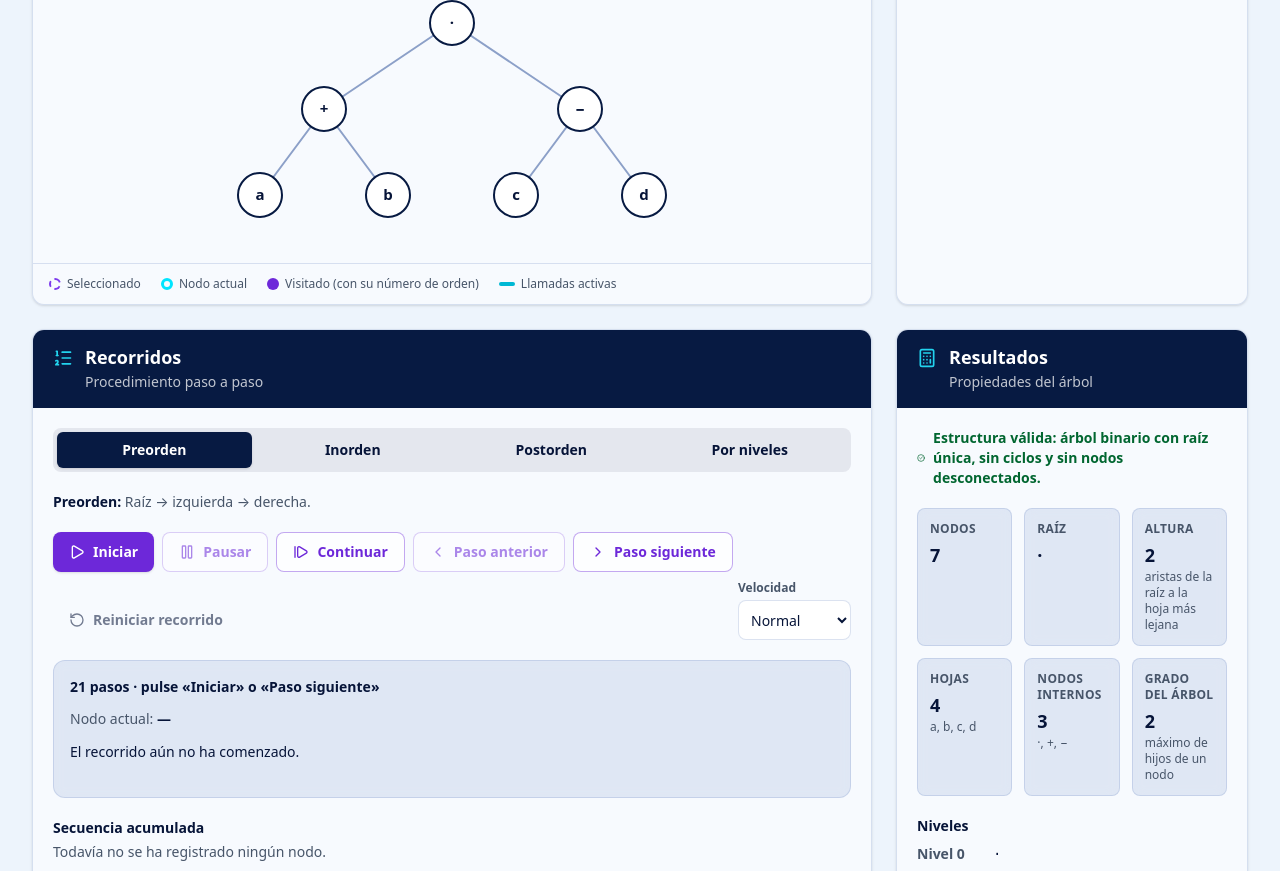
Scenario: módulo de árboles binarios › reproduce automáticamente, se puede pausar y continuar
Later steps or results of the test are not shown.
(page scrolled)
Click the tab "Por niveles" at point(750, 450), box 652,432 -> 847,468
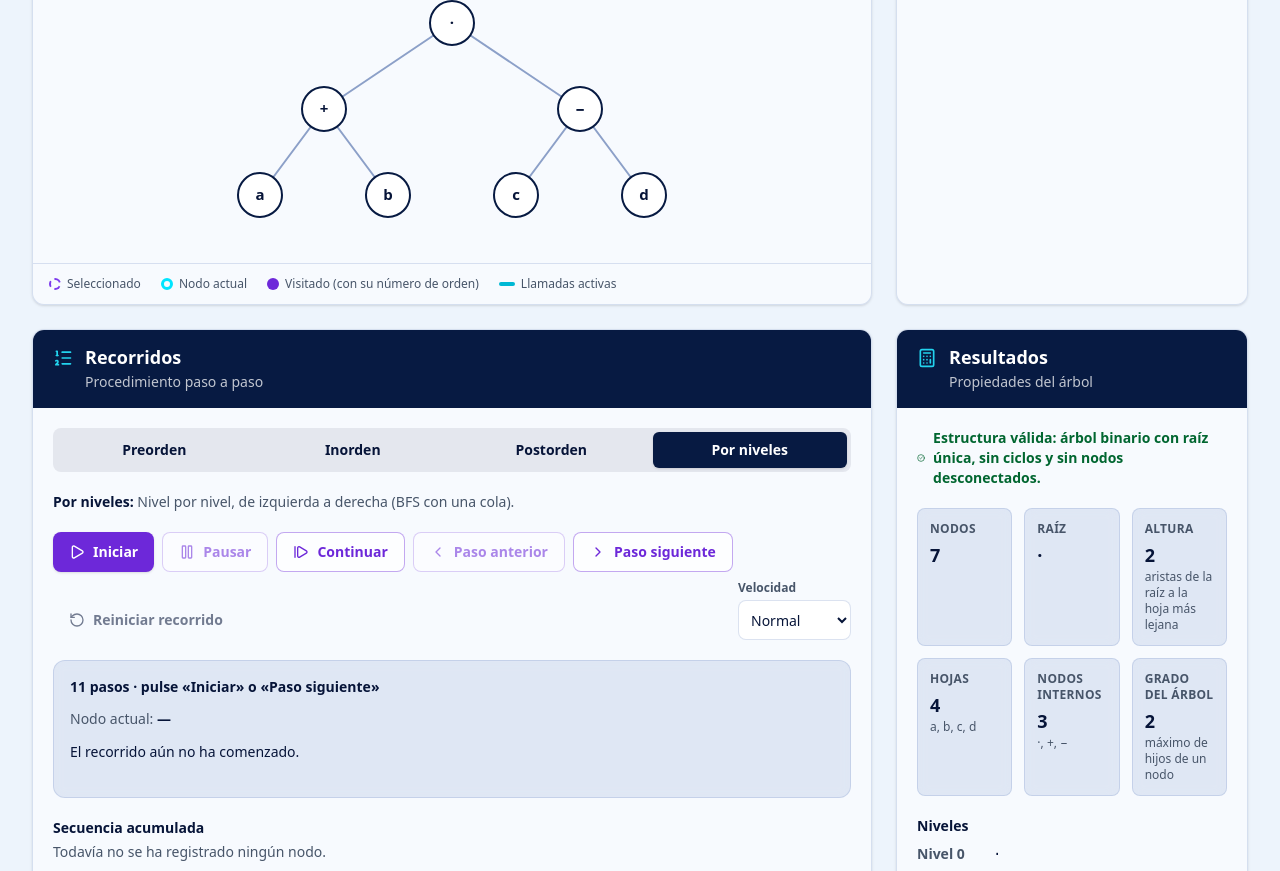
Click the button "Iniciar" at point(104, 552), box 53,532 -> 154,572
Wait 2200 ms
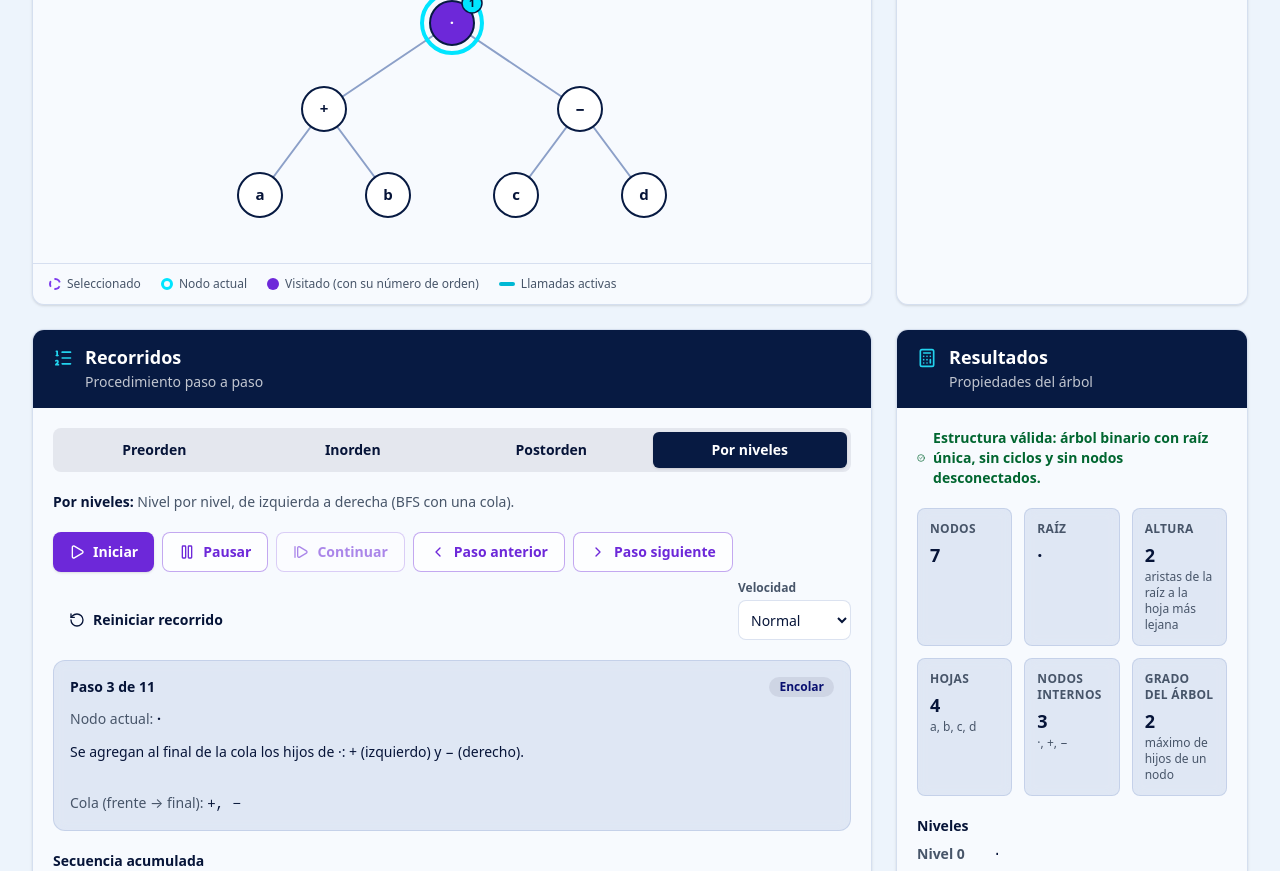
Now the text "Paso 3 de 11" is shown, box 70,677 -> 155,697
Click the button "Pausar" at point(215, 552), box 162,532 -> 268,572
Wait 5500 ms
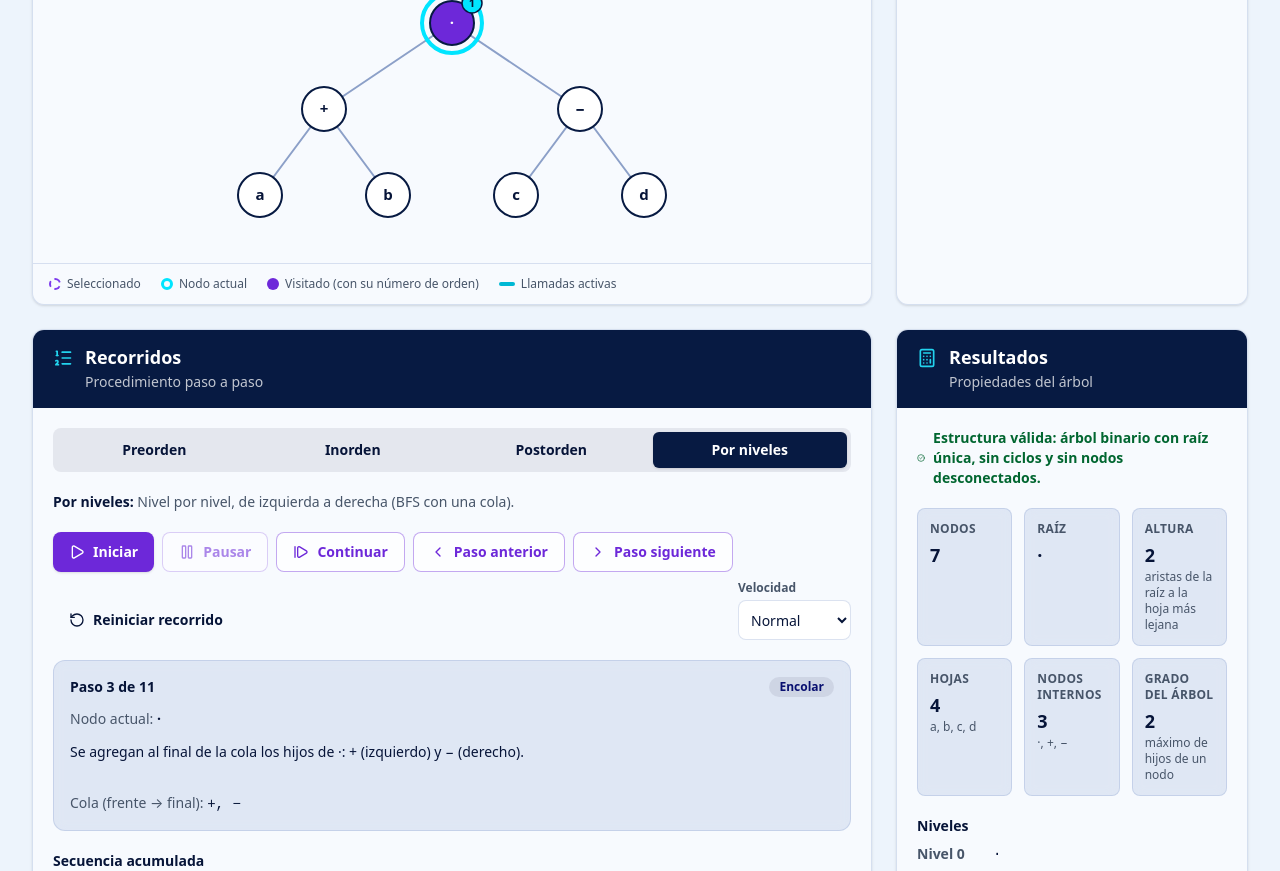
Now the text "Paso 3 de 11" is shown, box 70,677 -> 155,697
Click the button "Continuar" at point(341, 552), box 276,532 -> 405,572
Wait 13200 ms
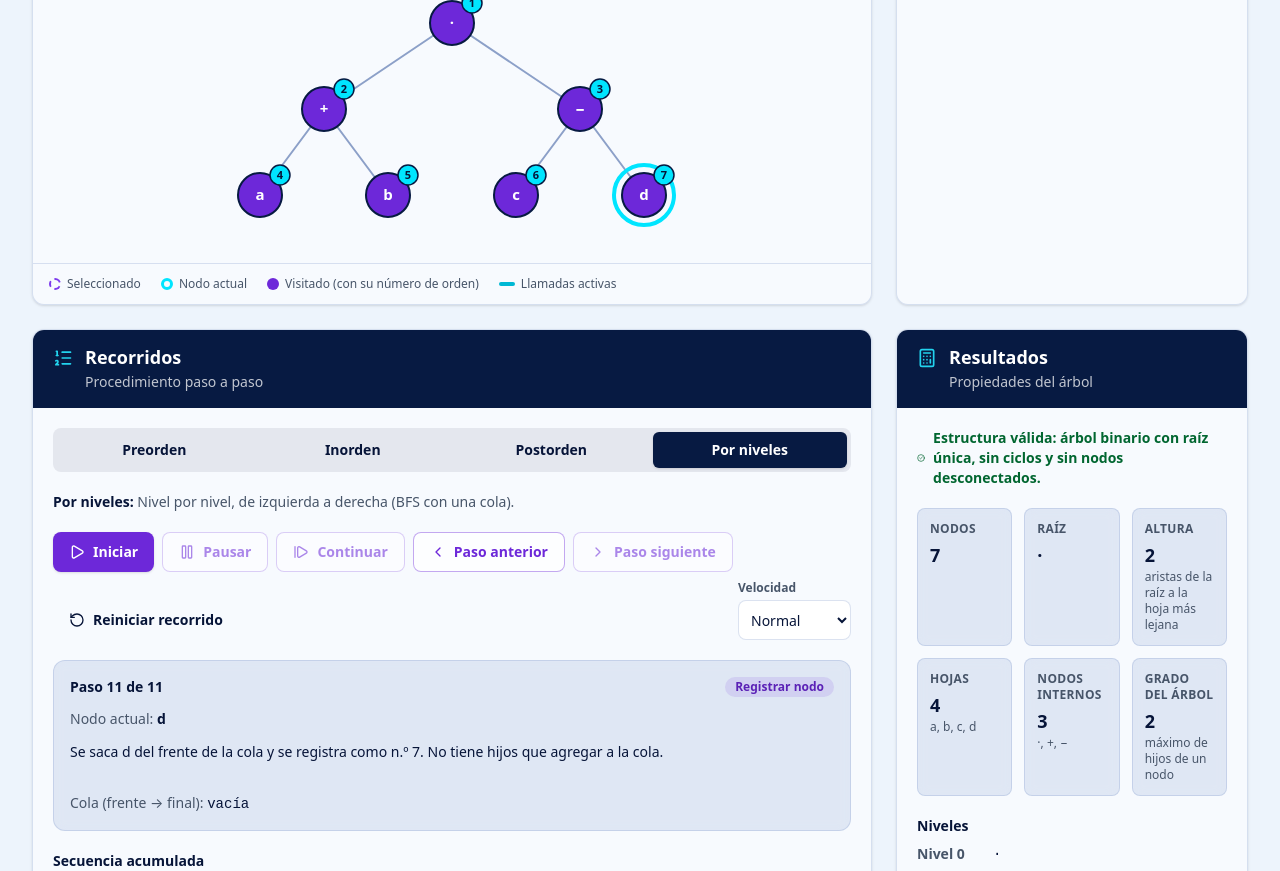
Now the button "Paso siguiente" is disabled, box 573,532 -> 733,572
